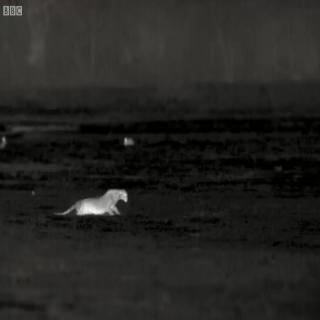Leopard: (41, 169, 140, 239)
